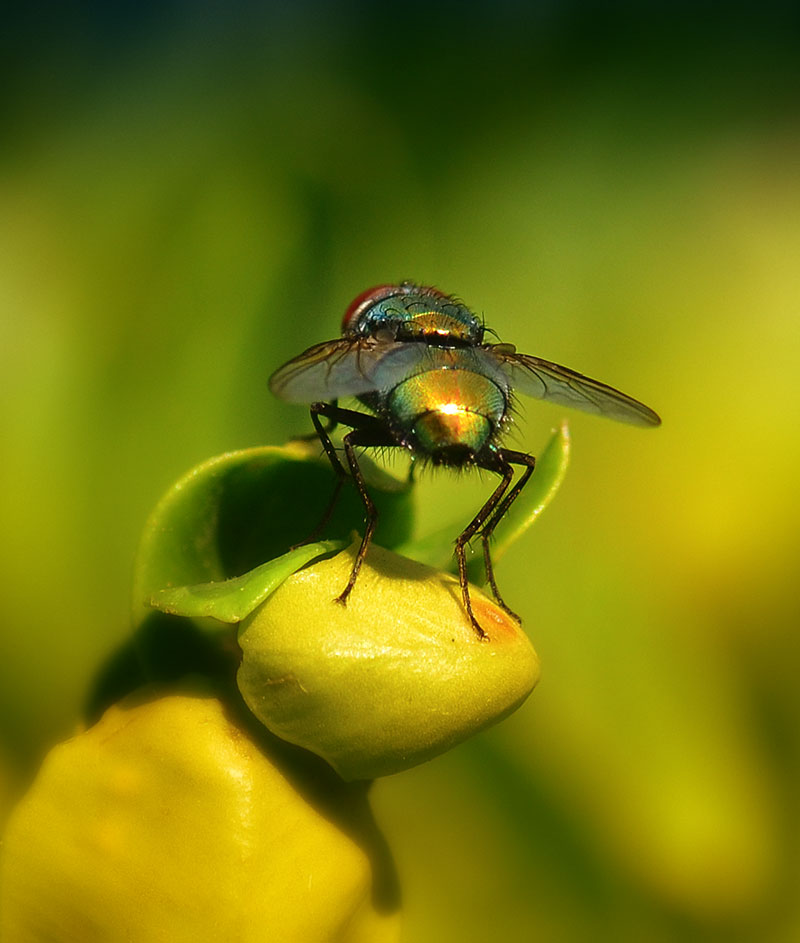green bottles flies: (270, 241, 682, 651)
